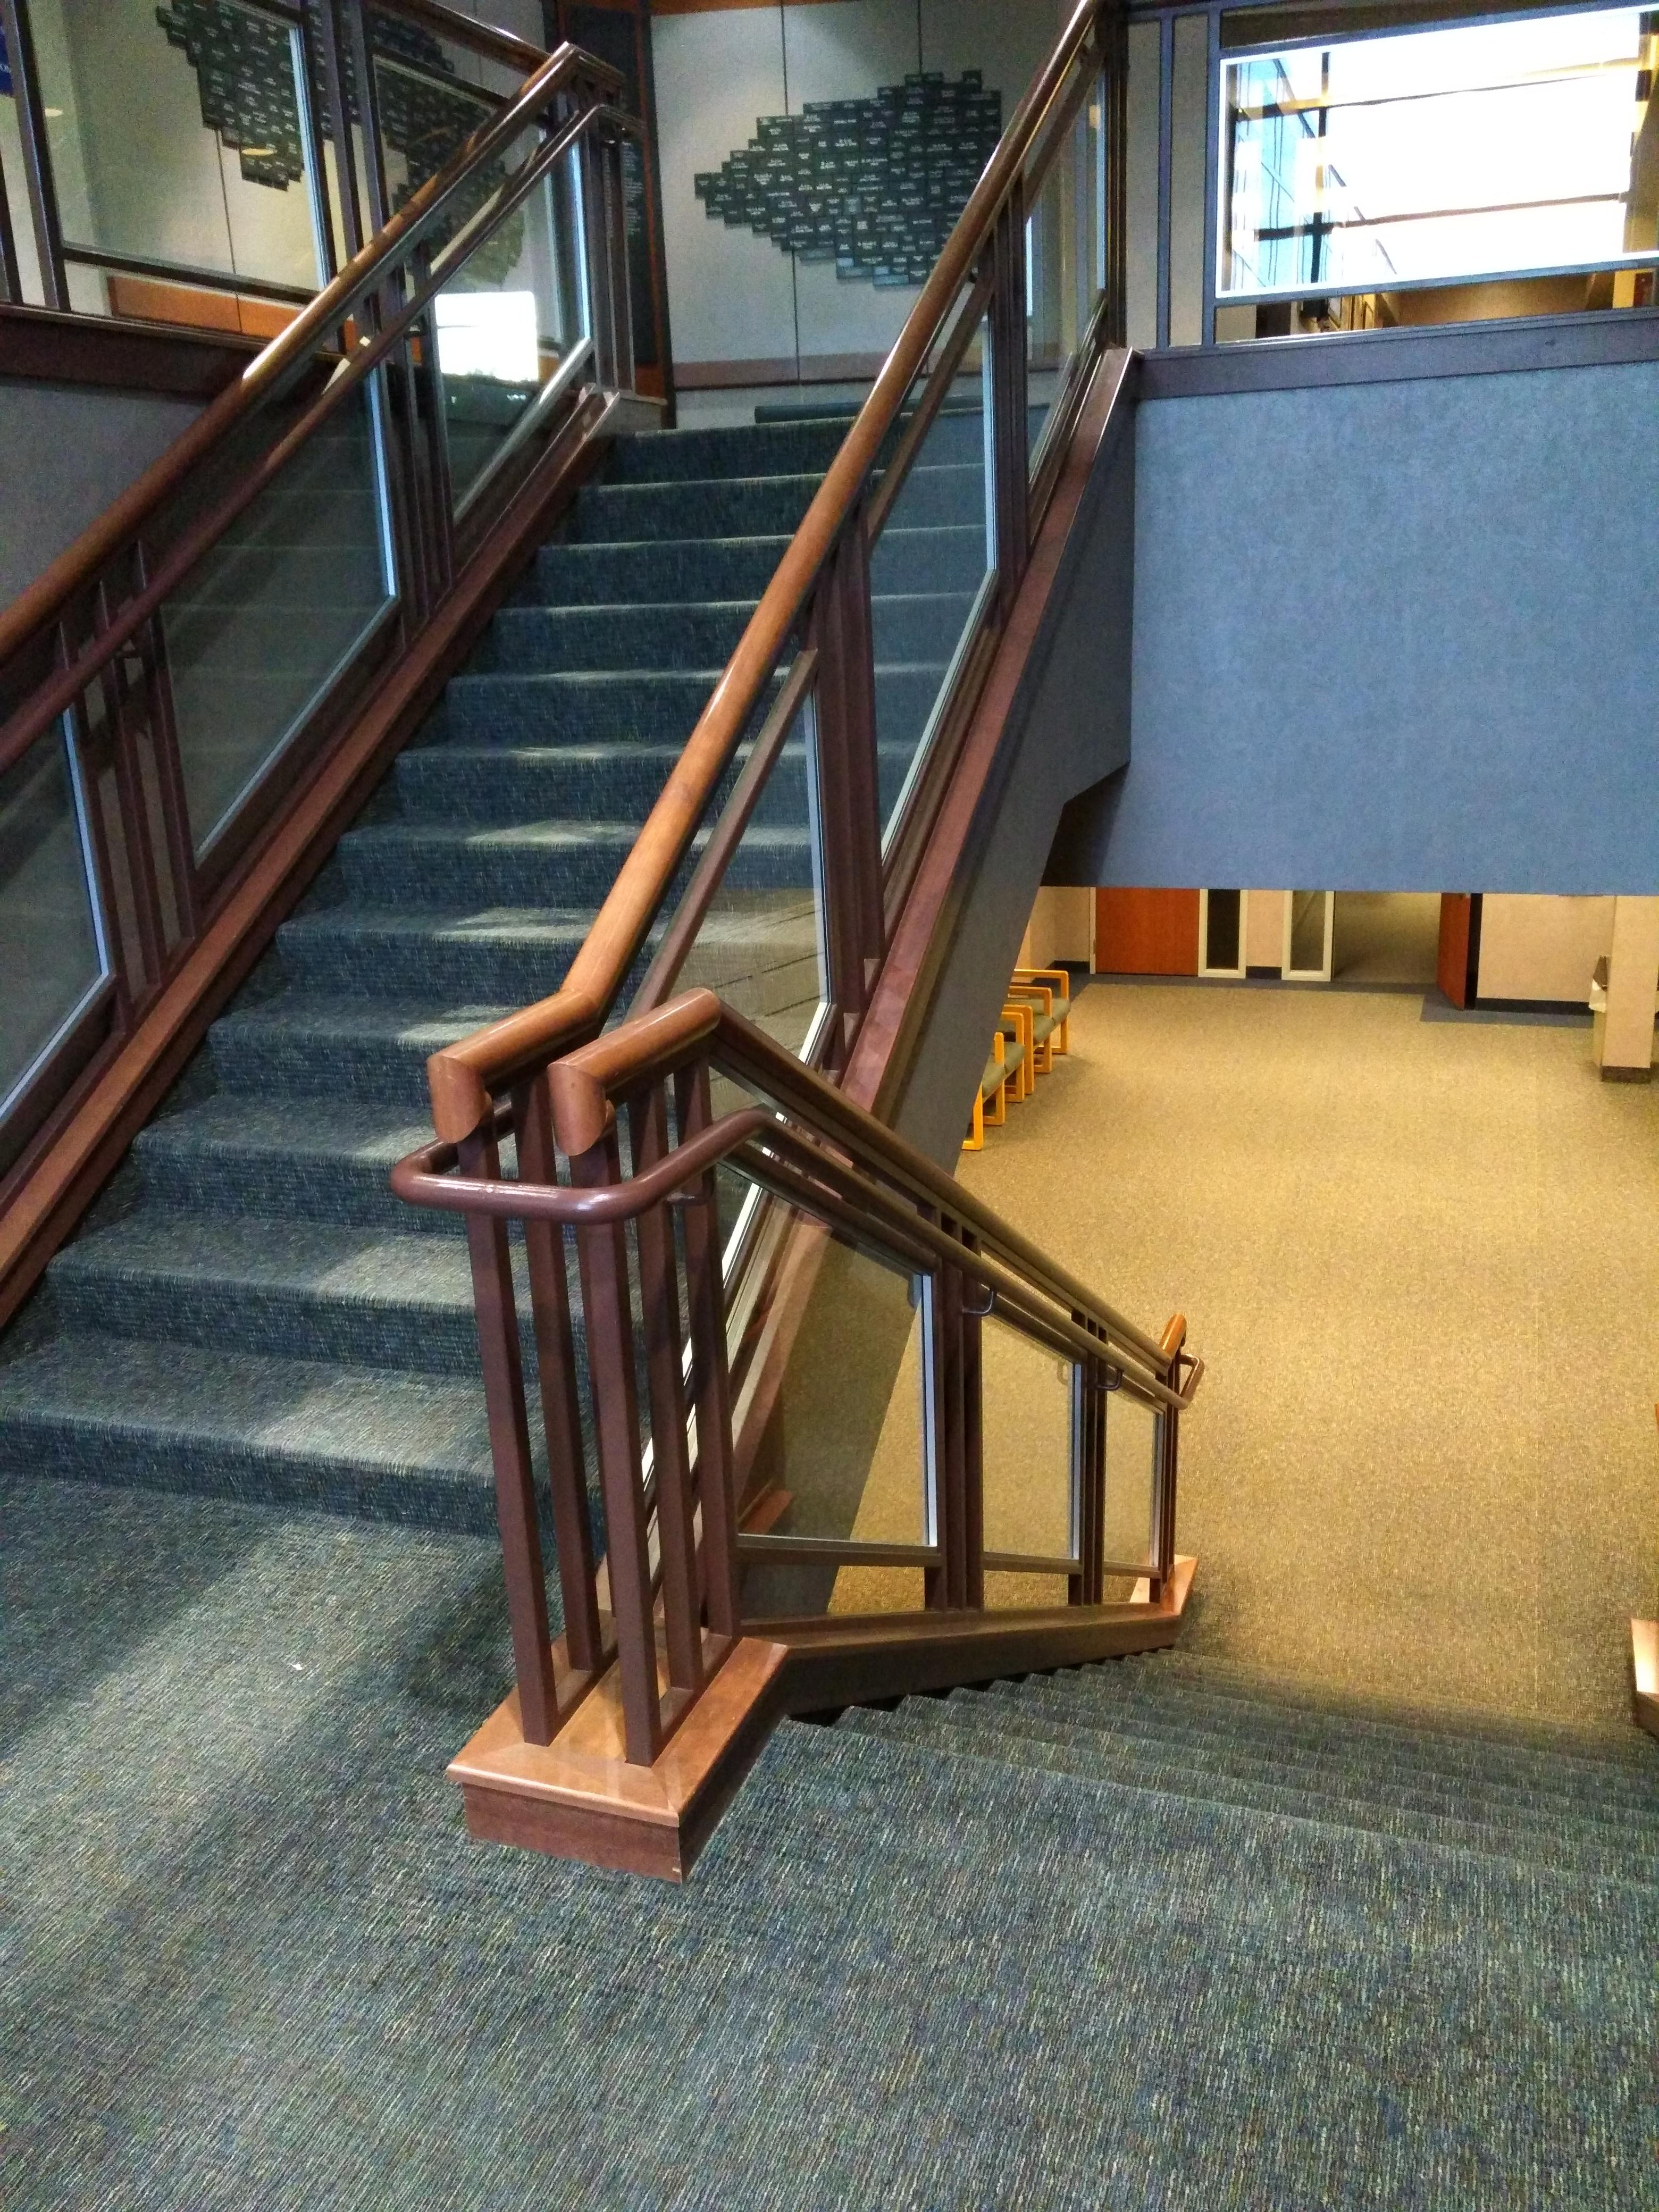stairs_down: (781, 1350, 1656, 1984)
stairs_up: (5, 268, 1037, 1310)
